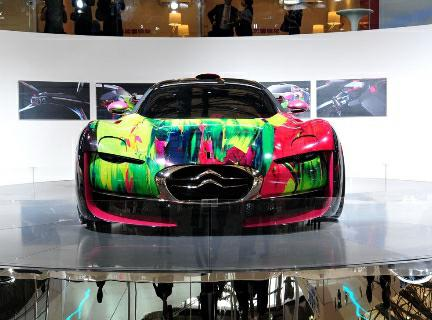雪铁龙-Survolt: (67, 65, 352, 239)
